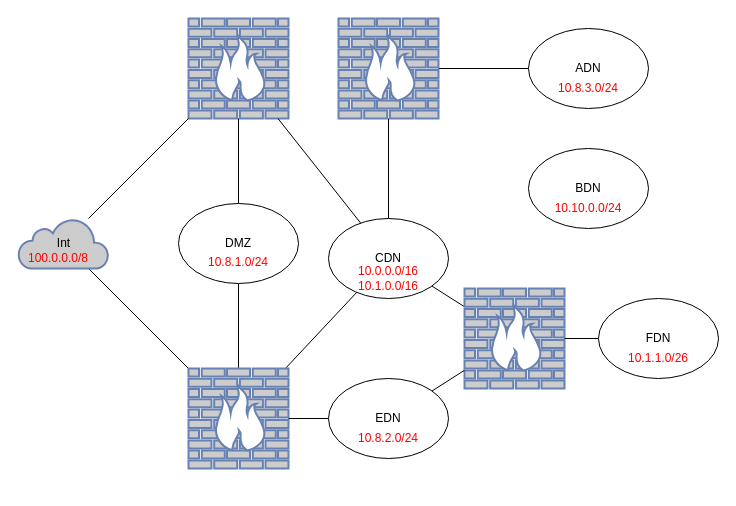
Some shapes in this 736 by 506 pixel diagram are drawn without their labels. Here are the shapes that lost their labels. From the top down, the centre of each, then its label:
At [238,68]: "InternetGw01".
At [388,68]: "NorthFw03".
At [514,338]: "SouthFw04".
At [238,418]: "VPNConcentrator02".
